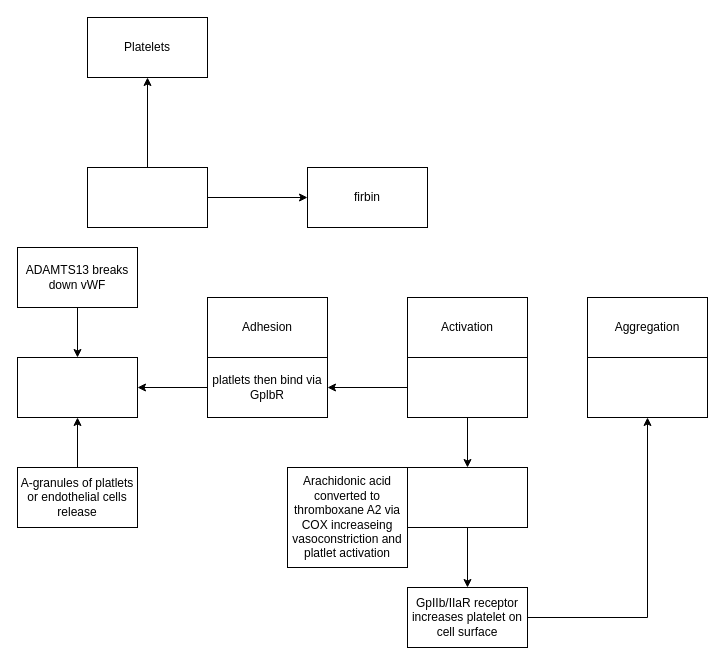
This 725x665 diagram has some shape labels left out. Here are the shapes that lost their labels. From the top down, the centre of each, then its label:
the point at 147,197: white thrombis
the point at 77,387: VWF binds collegen
the point at 467,387: relase ADP and Ca2+ release deep dense granules
the point at 647,387: binds fibringogen and links platlets together
the point at 467,497: binds to P2Y12 receptor
